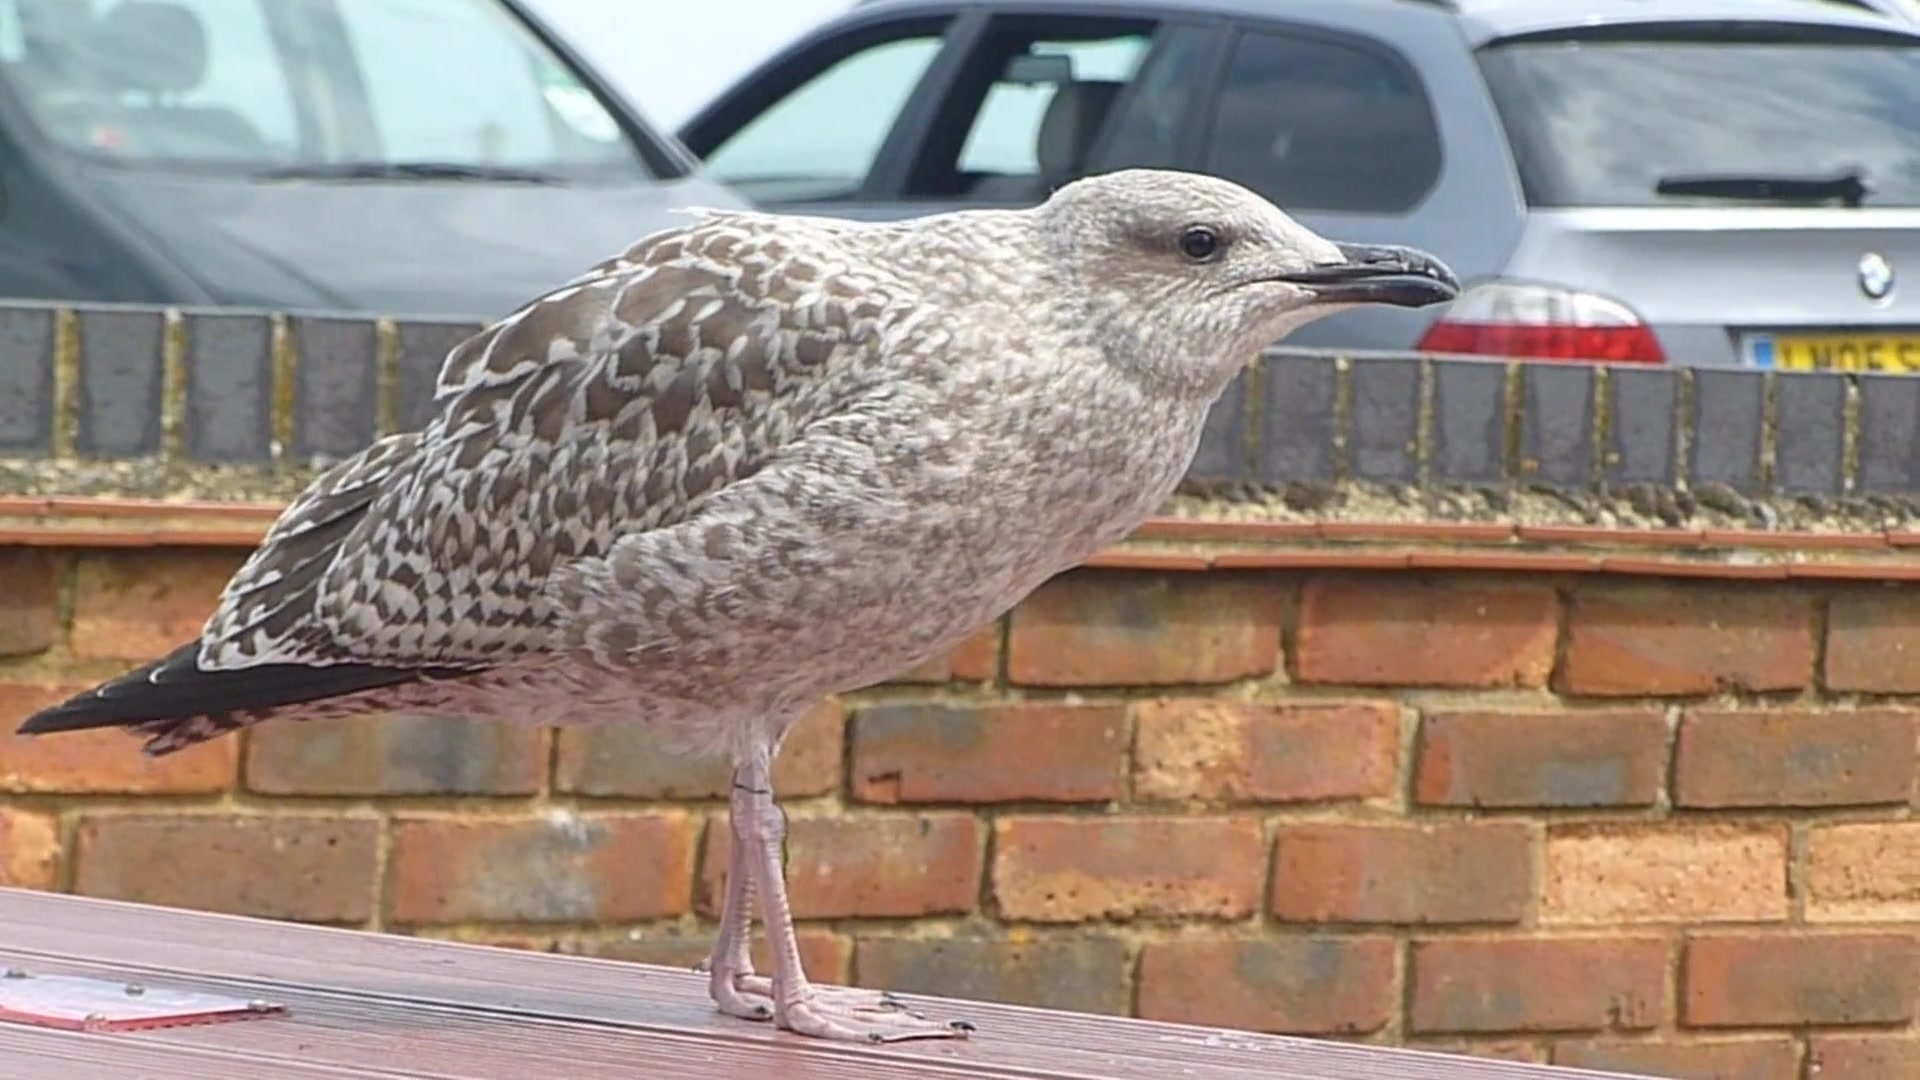bird: (18, 171, 1472, 1048)
